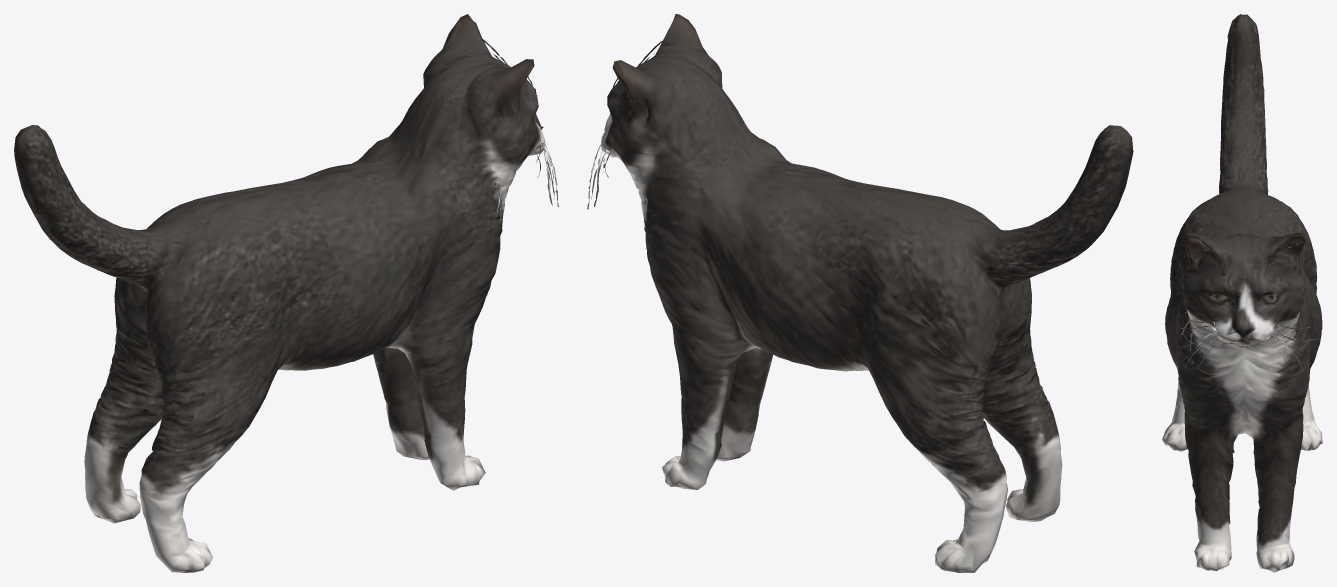
Rendered from SOCKAMILL-lo.glb.
3 views of the same model, side by side, from view 1: azimuth 30°, elevation 25°; view 2: azimuth 150°, elevation 25°; view 3: azimuth 270°, elevation 25° (orthographic). The views are drawn at different scales.
Visible parts, largest first — view 1: tripo_node_f4d4779a-f7d1-4dd1-8044-fc1f3d6e6da8; view 2: tripo_node_f4d4779a-f7d1-4dd1-8044-fc1f3d6e6da8; view 3: tripo_node_f4d4779a-f7d1-4dd1-8044-fc1f3d6e6da8.
Boxes of the visible parts, box(x1,y1,x2,y2) form: tripo_node_f4d4779a-f7d1-4dd1-8044-fc1f3d6e6da8: box(14, 14, 558, 572); tripo_node_f4d4779a-f7d1-4dd1-8044-fc1f3d6e6da8: box(587, 14, 1133, 572); tripo_node_f4d4779a-f7d1-4dd1-8044-fc1f3d6e6da8: box(1162, 14, 1322, 572).
Bounding box in the file's own units: 1.23 × 0.9991 × 0.3832.
Materials: 1 (1 with a texture image).
